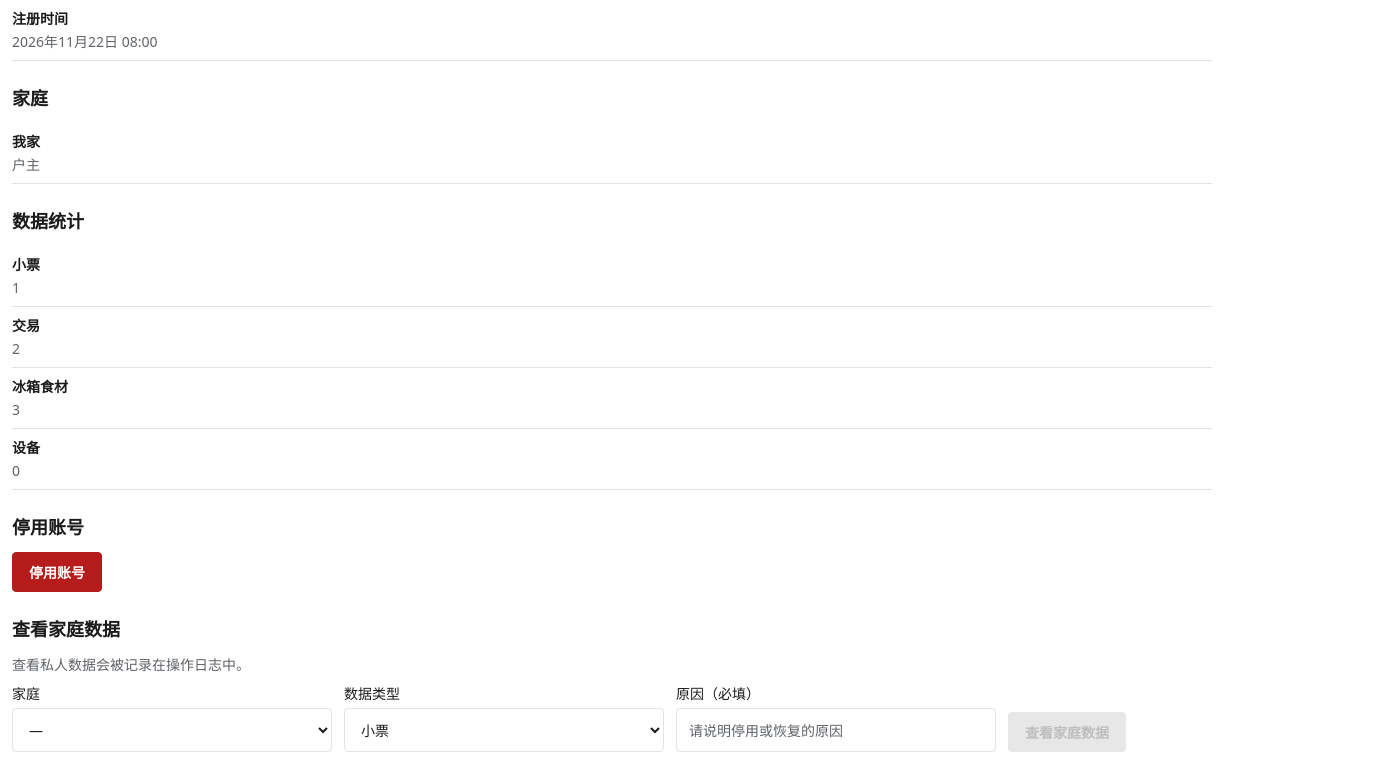
AdminUserDetailPage › inspect inventory (admin shape, no days_left) renders name + quantity, not "—"
(page scrolled)
Select "我家" in the dropdown labelled "家庭". click: {"x": 172, "y": 730}
box: left=12, top=708, right=332, bottom=752
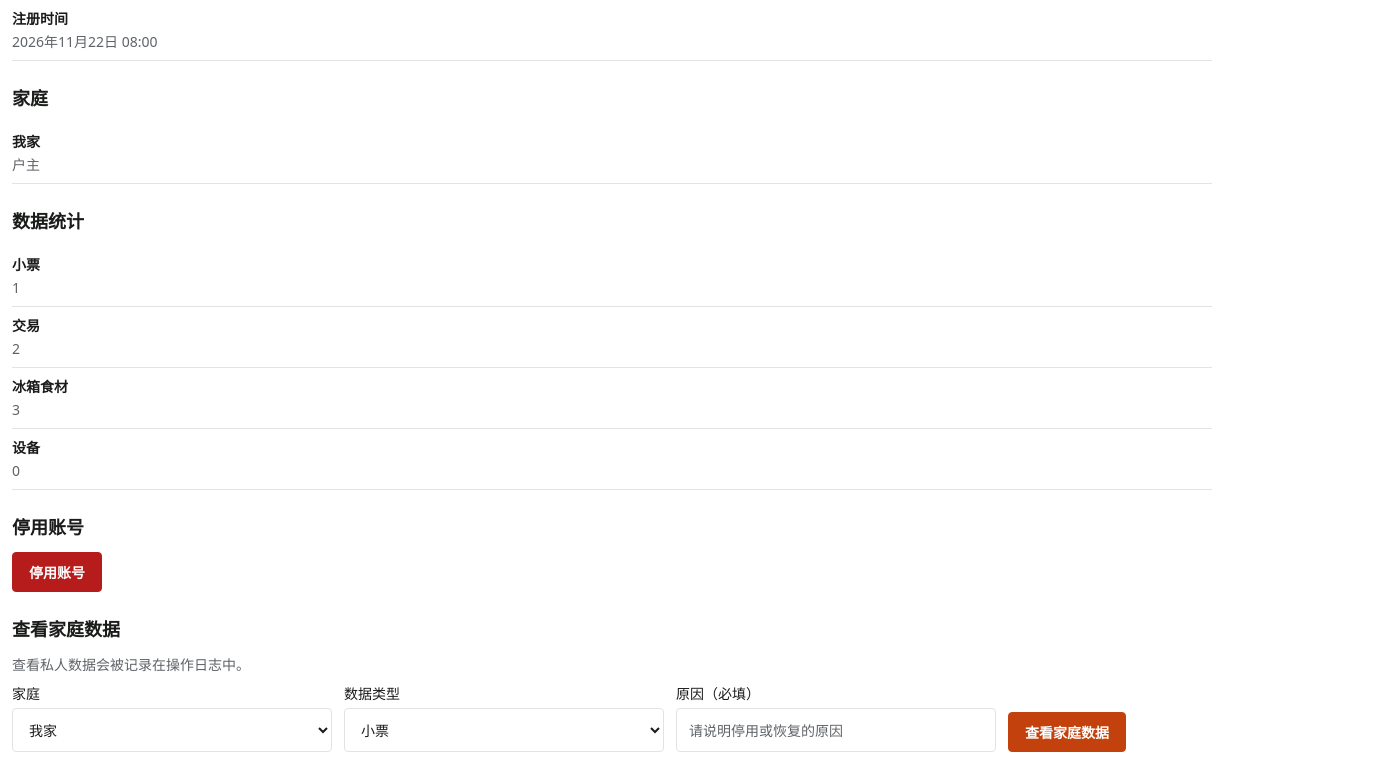
Select "冰箱食材" in the dropdown labelled "数据类型". click: {"x": 504, "y": 730}
box: left=344, top=708, right=664, bottom=752
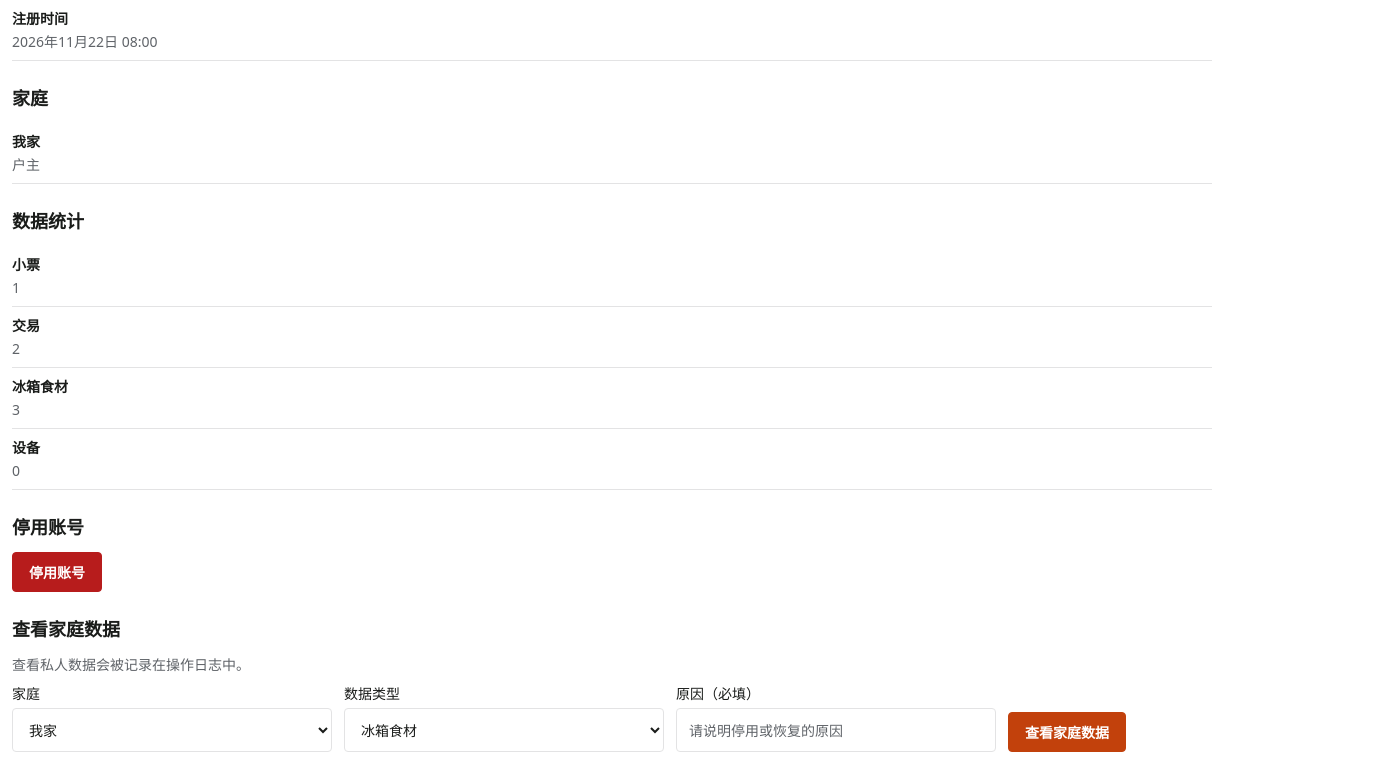
Type "abuse report" into the field with id "admin-inspect-reason". click: {"x": 836, "y": 730}
box: left=676, top=708, right=996, bottom=752
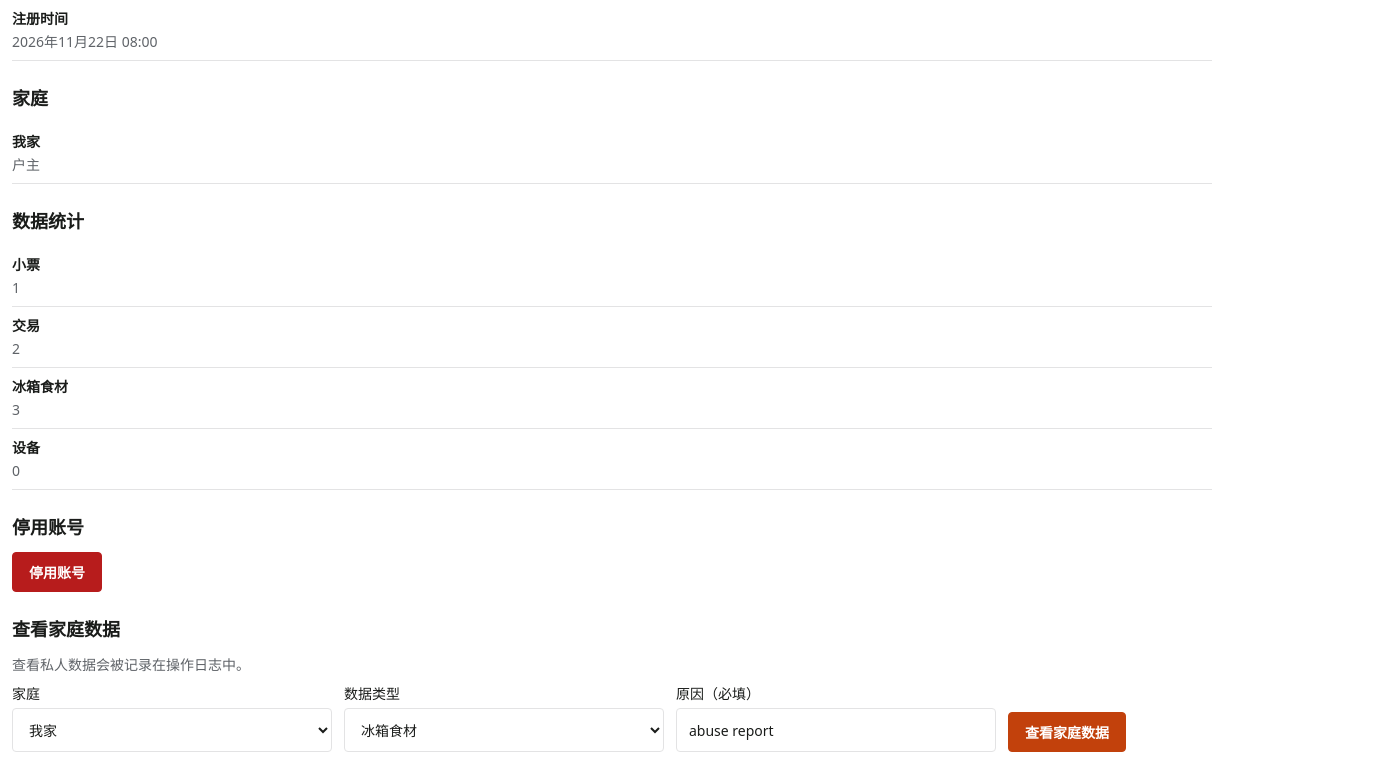
Click the button "查看家庭数据". click: {"x": 1067, "y": 732}
box: left=1008, top=712, right=1126, bottom=752
(page scrolled)
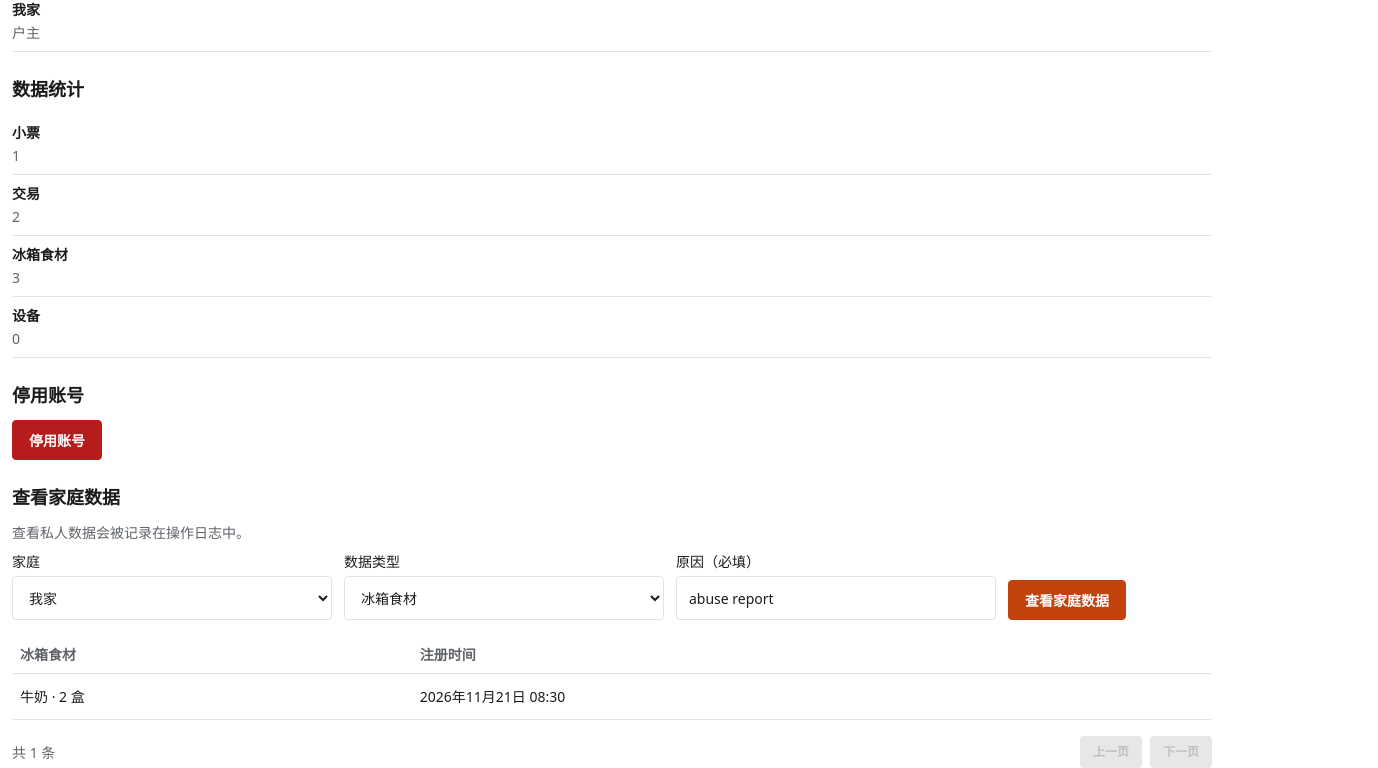
Now the text "牛奶 · 2 盒" is shown, box left=12, top=674, right=412, bottom=720
